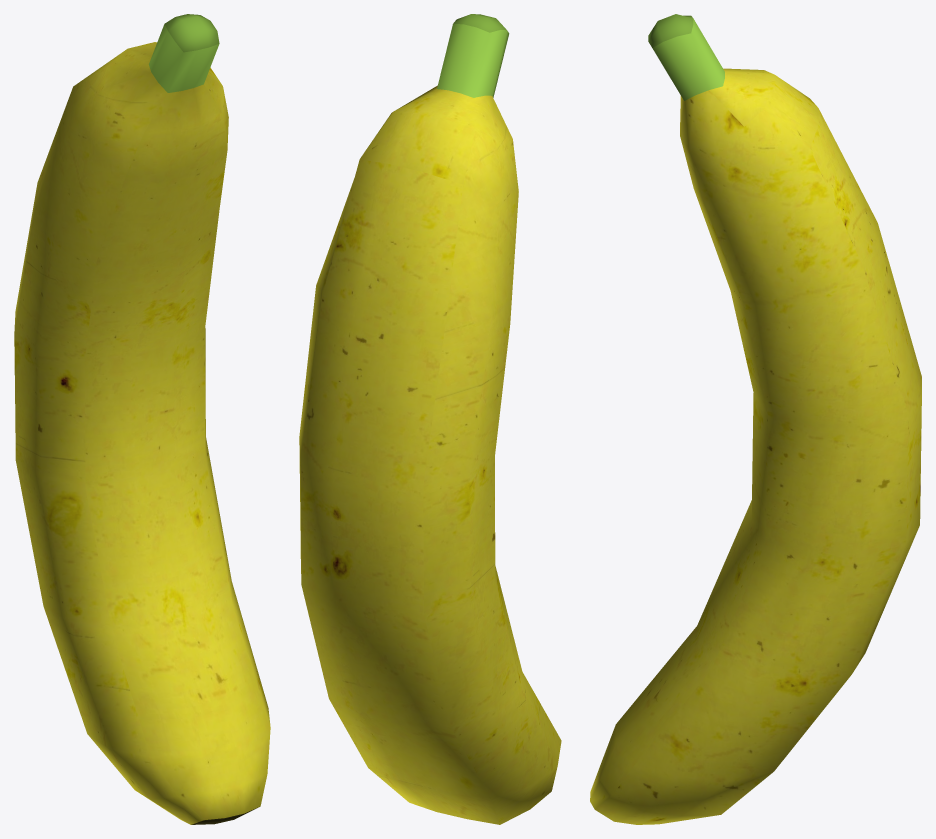
File: banana.fbx
3 views of the same model, side by side, from view 1: azimuth 30°, elevation 25°; view 2: azimuth 150°, elevation 25°; view 3: azimuth 270°, elevation 25° (orthographic). The views are drawn at different scales.
Visible parts, largest first — view 1: Cube; view 2: Cube; view 3: Cube.
Part boxes in pixels (<box>): Cube: <box>14,14,270,824</box>; Cube: <box>299,14,561,824</box>; Cube: <box>590,14,921,824</box>.
Size of the model in its own units: 278 by 1254 by 473.
4 materials, 1 textured.
